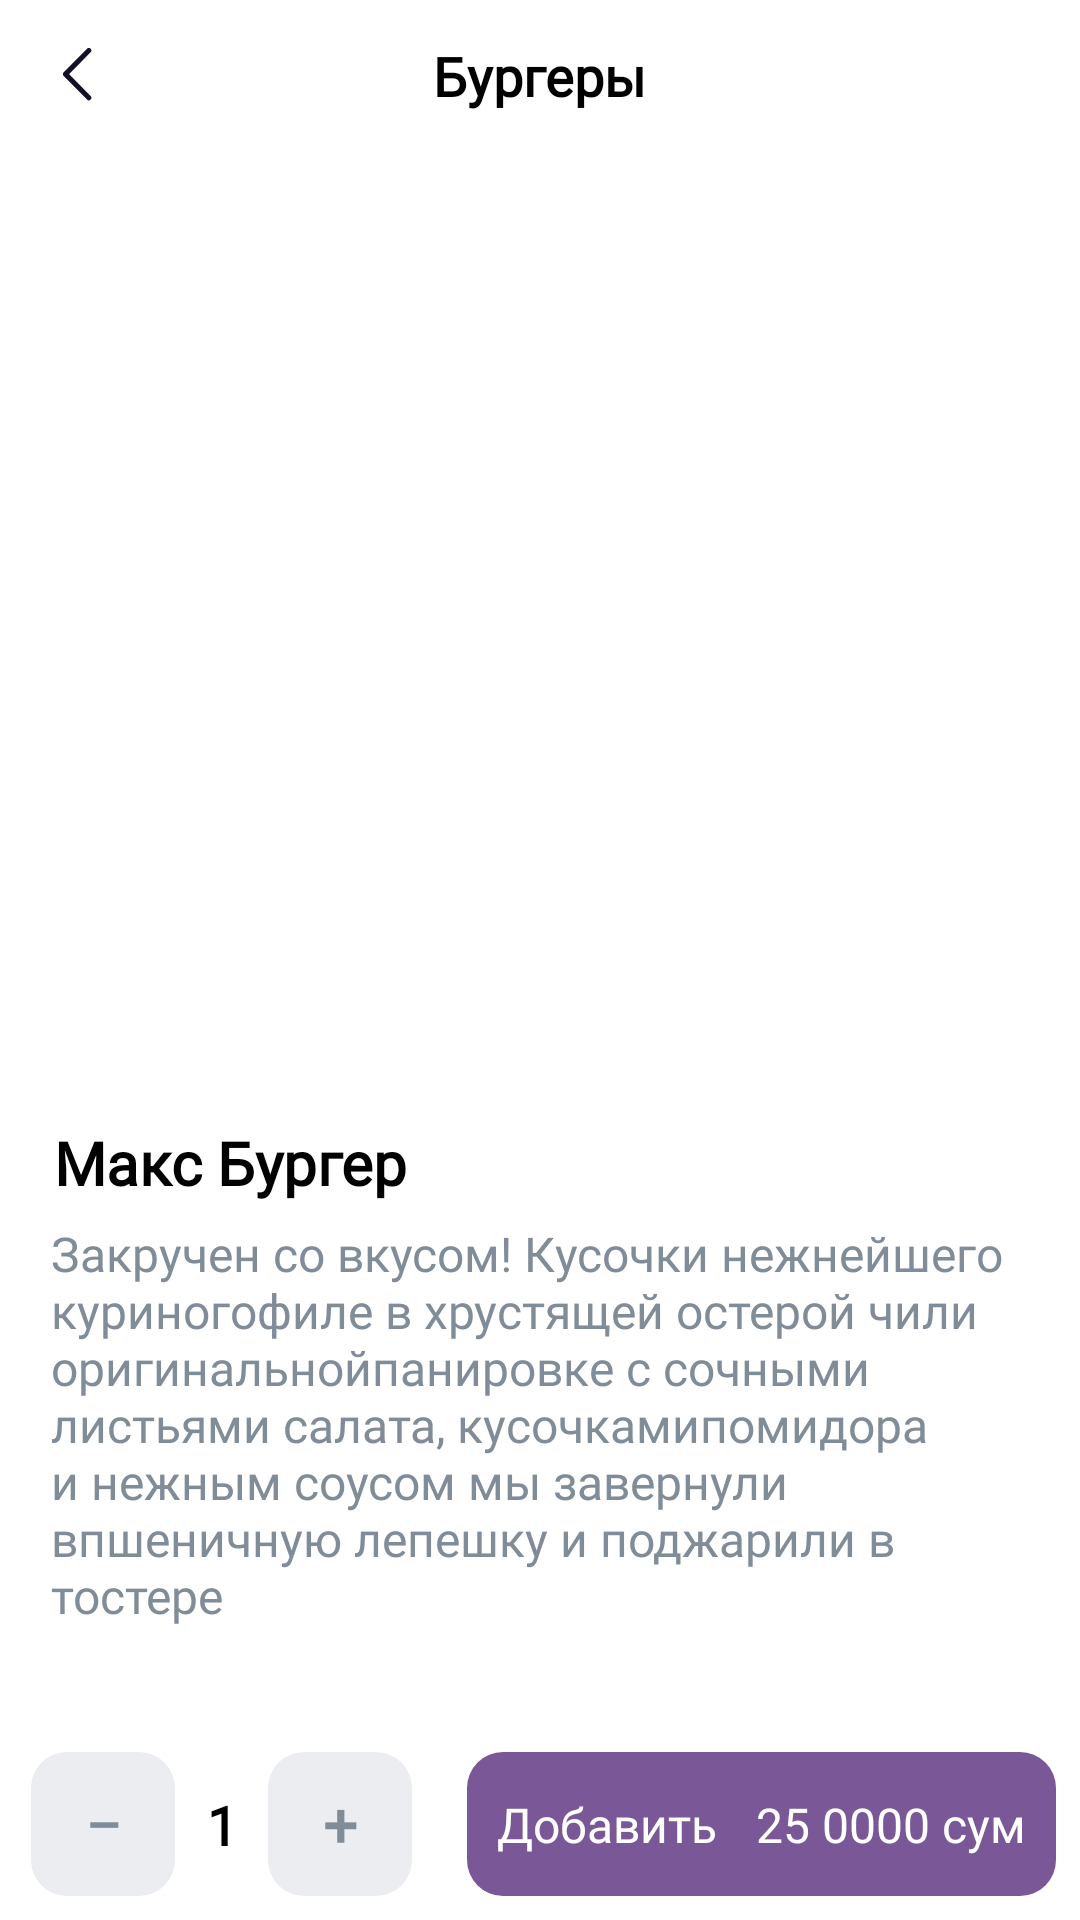

Icon click points for this 1080px×1920px phone screenshot, format point (x, y):
back: point (77, 74)
